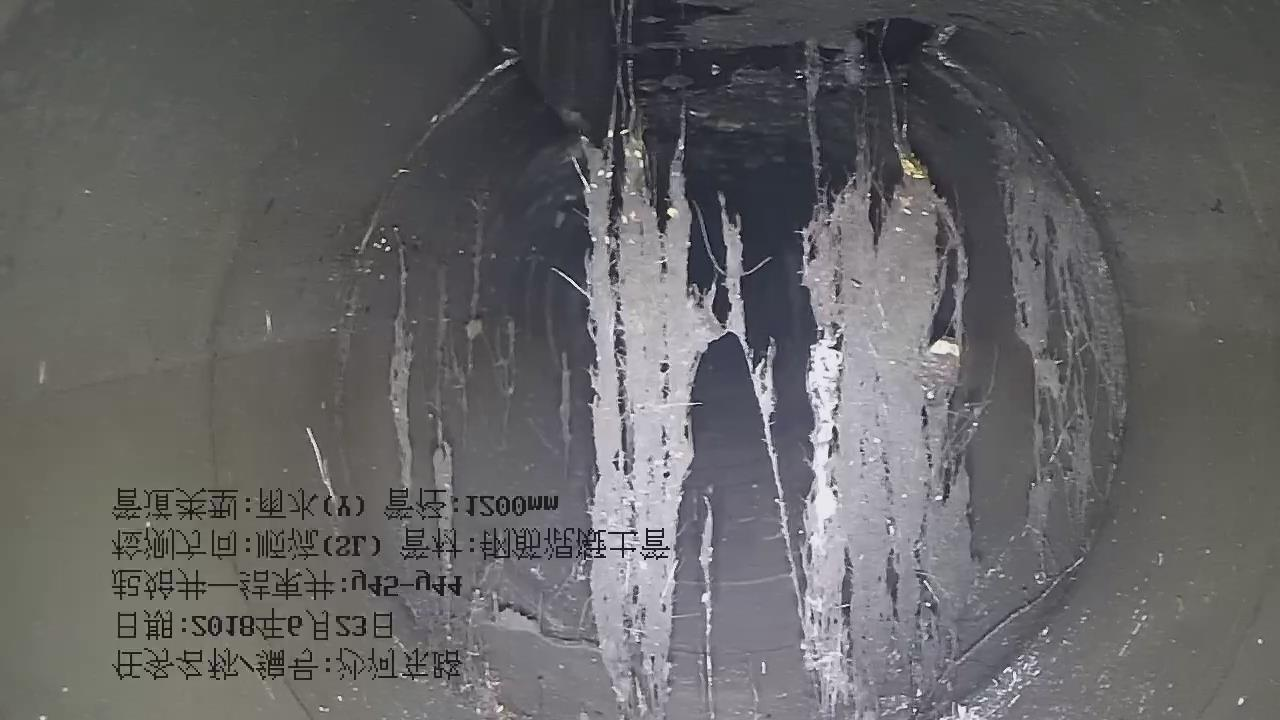CJ: (625, 1, 1061, 171)
SG: (387, 47, 1123, 720)
